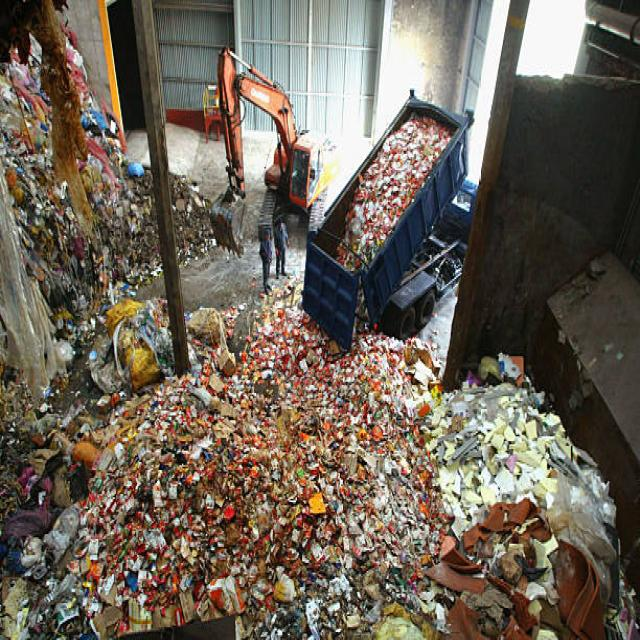trash: (51, 303, 558, 616), (13, 54, 154, 268), (336, 115, 457, 260)
